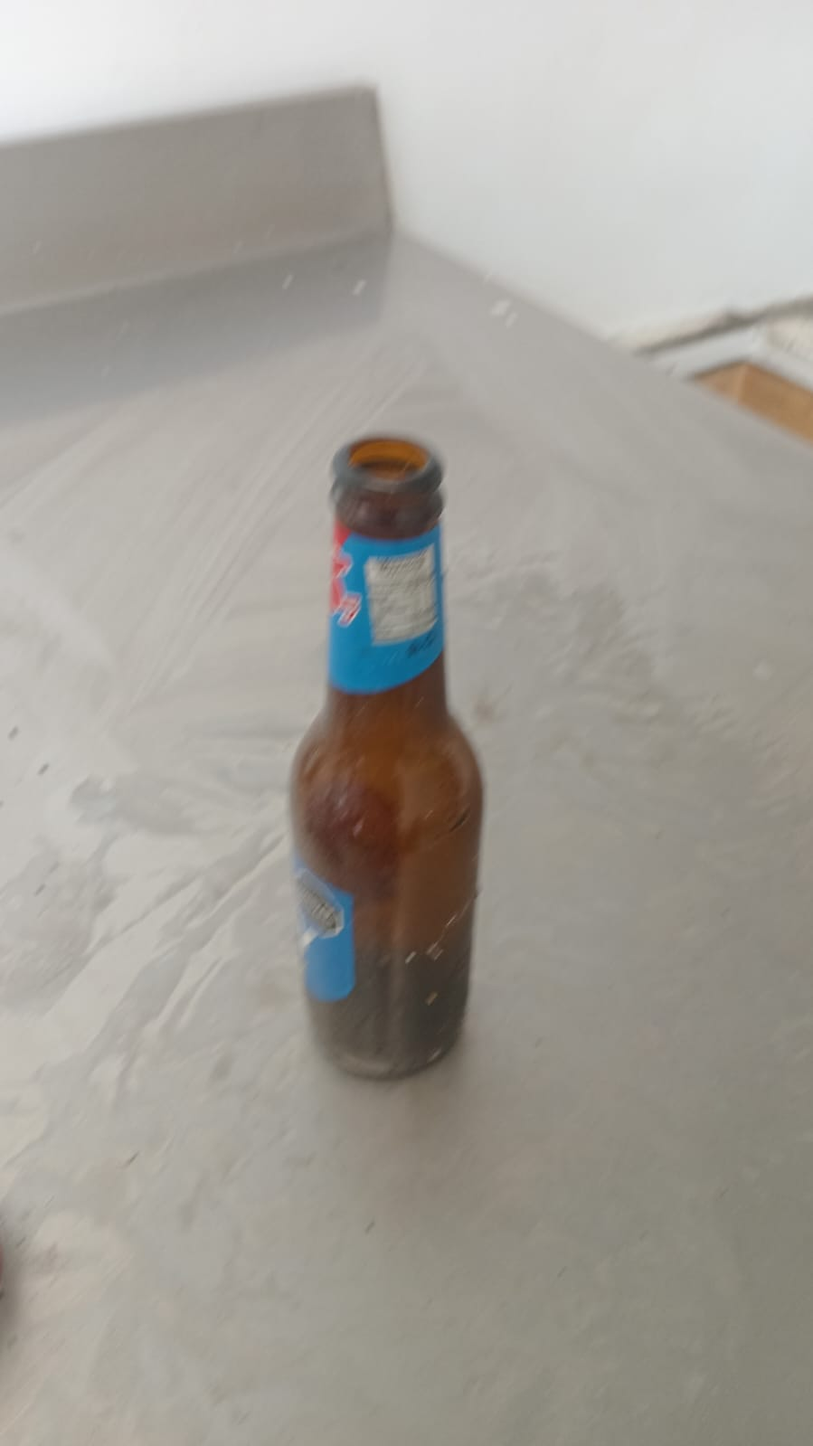Vidrio: (288, 434, 482, 1083)
